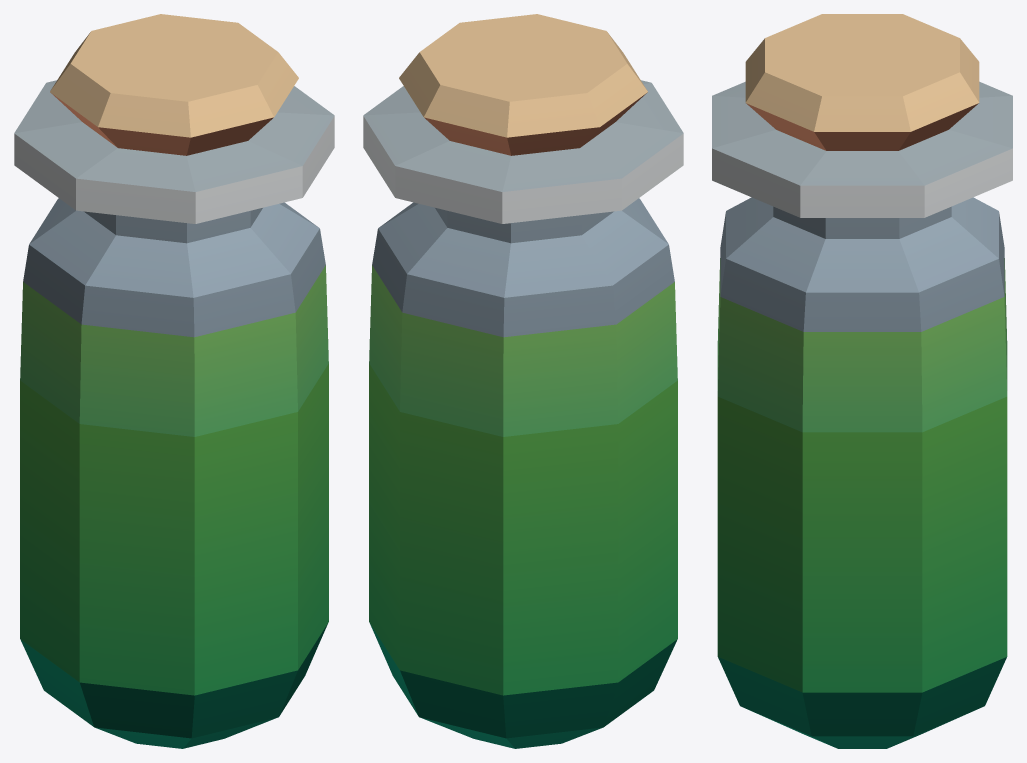
Rendered from source.glb.
3 renders of one model, left to right at view 1: azimuth 30°, elevation 25°; view 2: azimuth 150°, elevation 25°; view 3: azimuth 270°, elevation 25°, orthographic.
Parts seen in each view (by area): view 1: model; view 2: model; view 3: model.
Boxes of the visible parts, left/top/right/bottom form: model: left=14, top=14, right=334, bottom=748; model: left=363, top=14, right=683, bottom=748; model: left=712, top=14, right=1012, bottom=748.
Size of the model in its own units: 0.22 by 0.54 by 0.22.
Materials: 1 (1 with a texture image).
